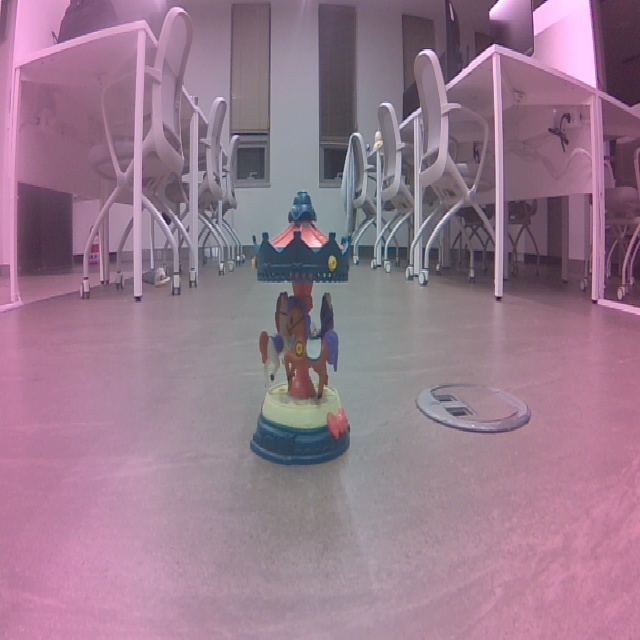목적지: (232, 172, 361, 467)
